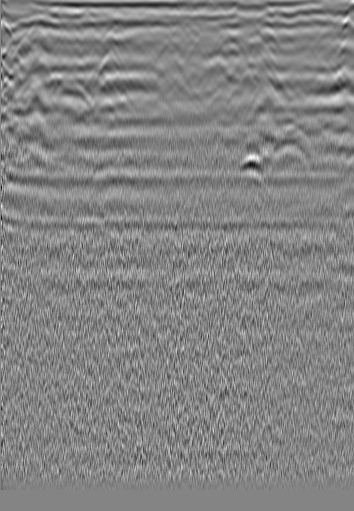가스: (237, 151, 266, 182)
상수: (25, 22, 45, 42)
오수: (308, 7, 328, 27)
우수: (135, 14, 155, 34)
